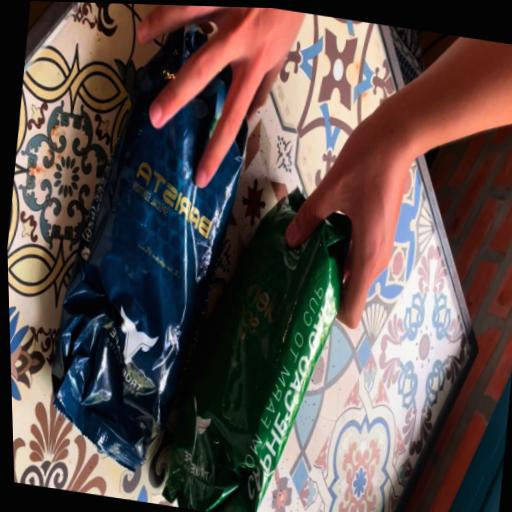cafe_hat: (51, 26, 246, 470)
cafe_xay: (162, 191, 349, 512)
